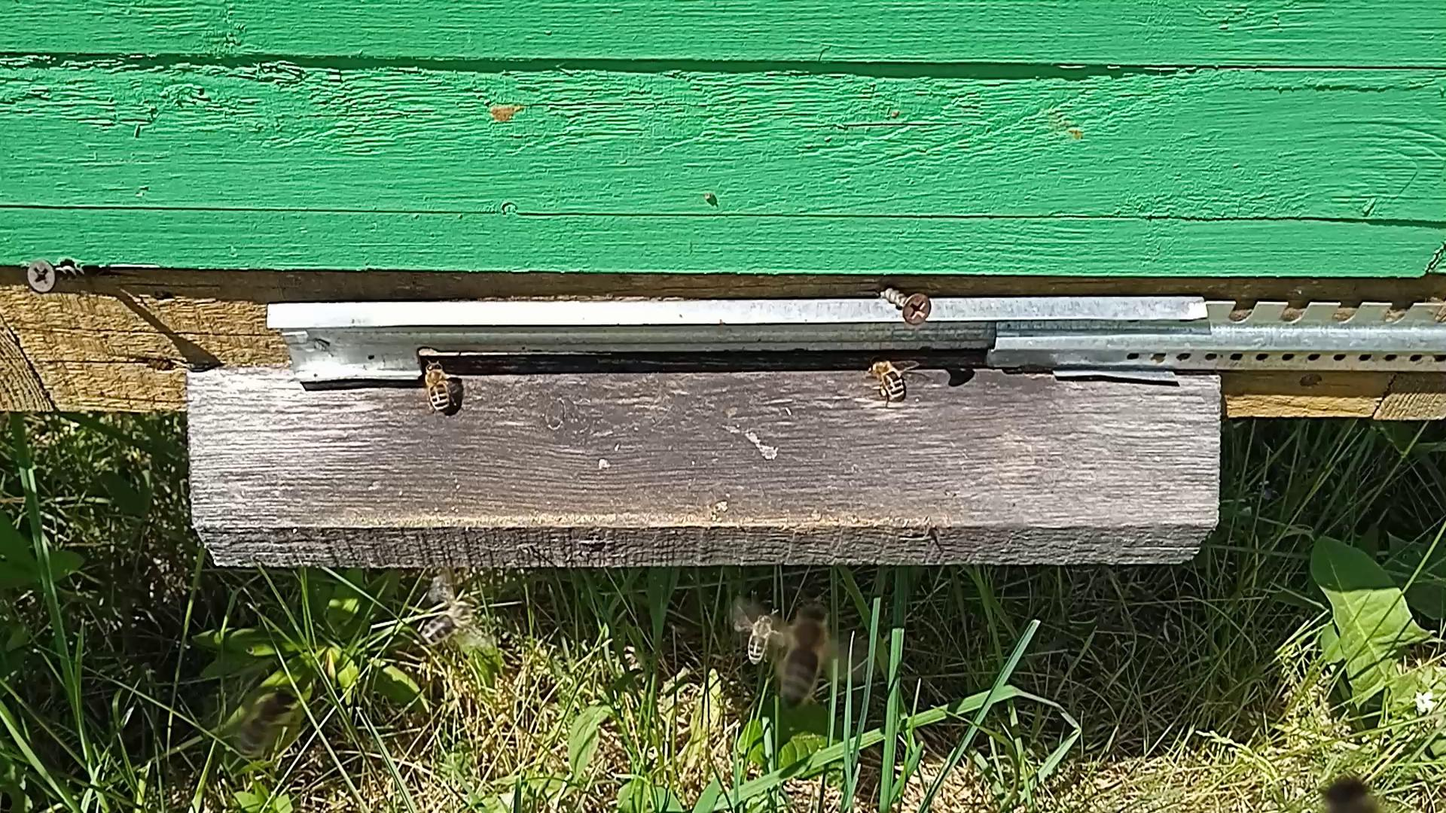worker-bee: (778, 601, 830, 708), (234, 687, 298, 760), (420, 594, 478, 644), (1316, 779, 1392, 813), (421, 359, 458, 414), (746, 607, 780, 665), (868, 356, 908, 402)
